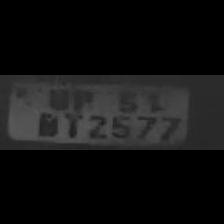1: (60, 110, 82, 136)
2: (81, 112, 107, 138)
5: (108, 112, 132, 138)
7: (154, 111, 182, 141), (132, 112, 156, 140)
N: (32, 108, 60, 135)
U: (41, 85, 68, 109)
